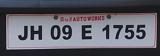0: (50, 24, 61, 41)
1: (100, 22, 112, 41)
5: (135, 23, 147, 41), (124, 23, 136, 41)
7: (112, 24, 124, 41)
9: (61, 24, 73, 40)
E: (81, 24, 94, 41)
H: (29, 24, 45, 41)
J: (16, 24, 29, 40)
